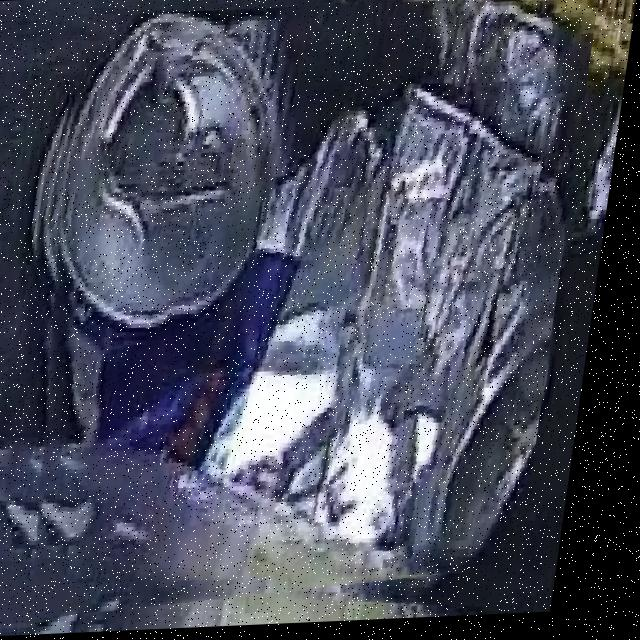litter: (61, 12, 570, 585)
